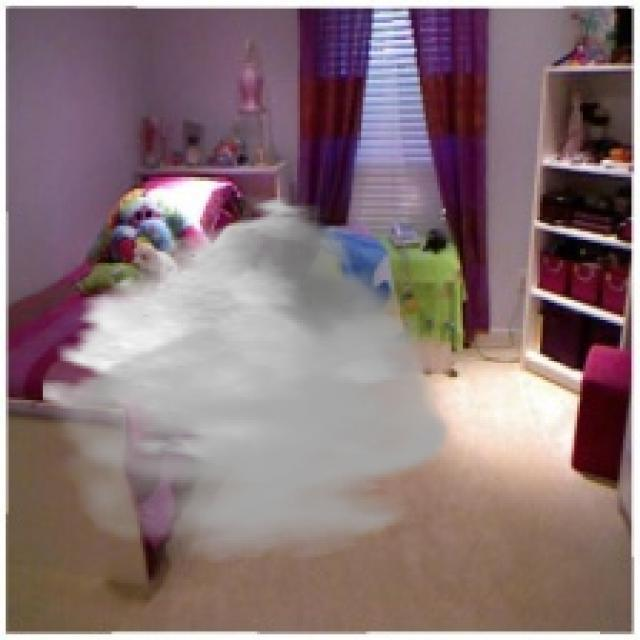Smoke: (42, 194, 458, 563)
